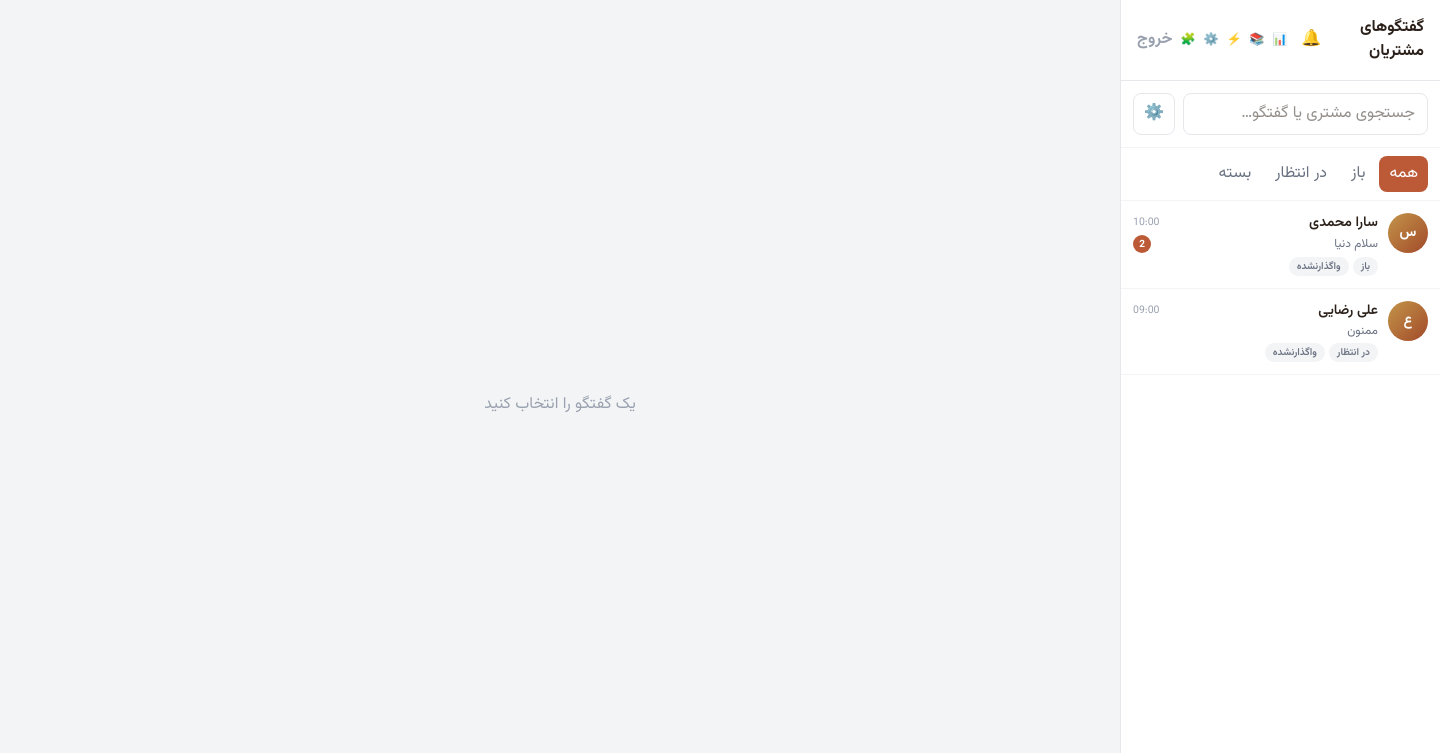
Test: Operator dashboard — customer conversations page › renders an incoming image message with its caption
Click the text "سارا محمدی" at (1344, 223), box [1309,213,1378,233]
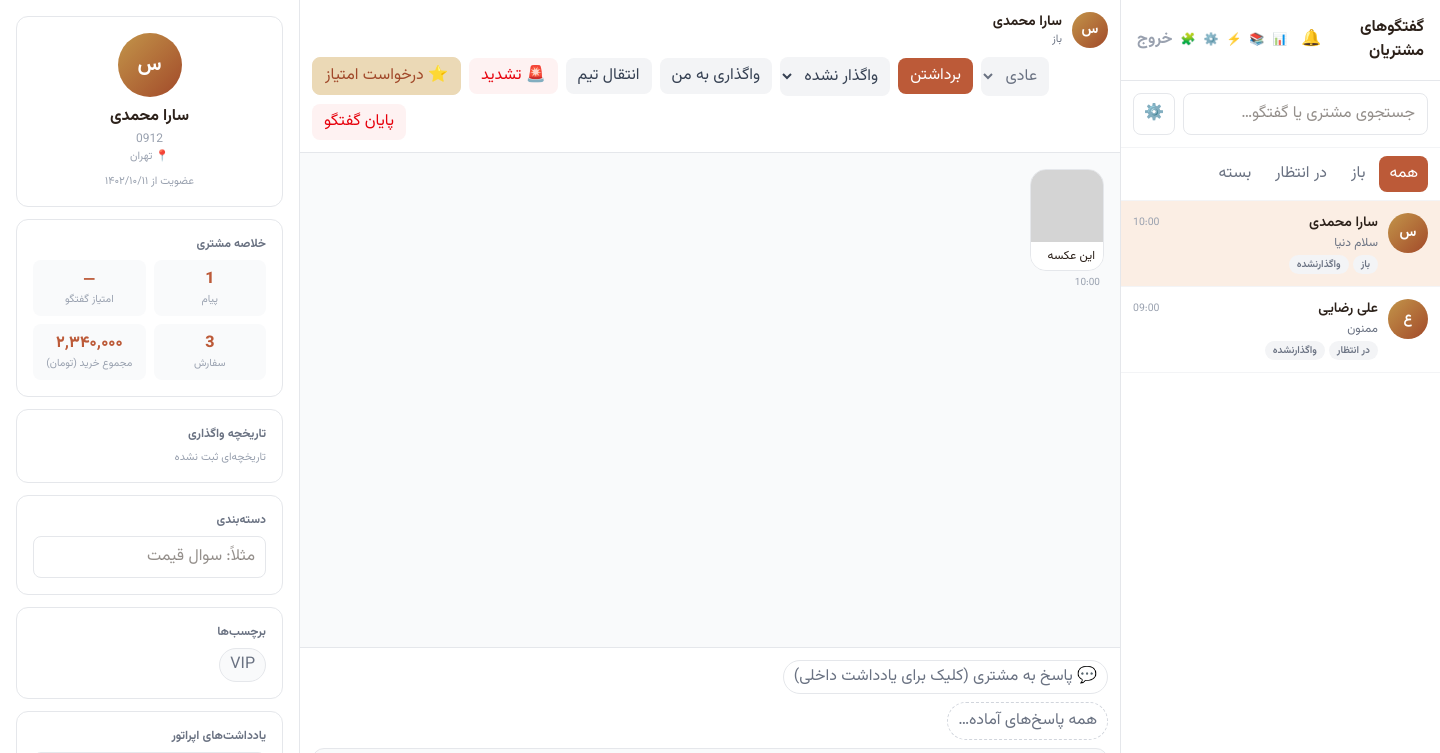
Result: the text "این عکسه" is shown at [1031,242,1103,270]
